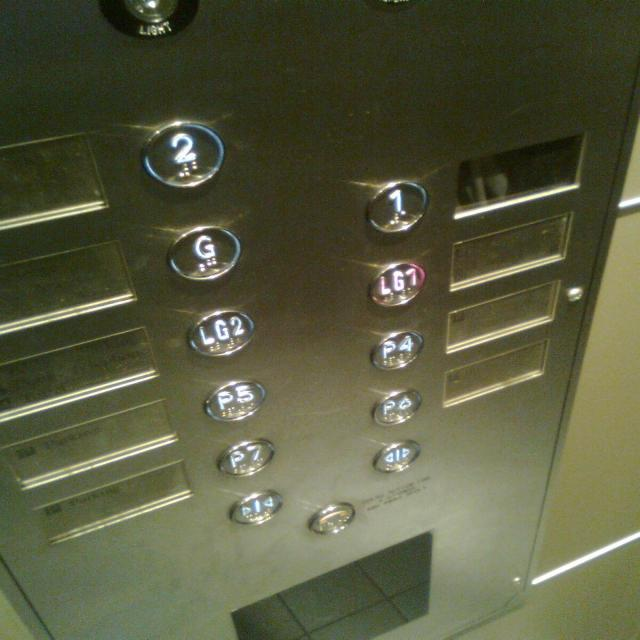1: (366, 180, 430, 235)
2: (138, 120, 227, 192)
G: (163, 223, 243, 284)
LG1: (368, 259, 425, 309)
LG2: (181, 306, 256, 358)
P4: (367, 328, 428, 373)
P5: (202, 378, 267, 426)
P6: (370, 386, 424, 428)
P7: (213, 438, 276, 479)
call: (303, 499, 357, 539)
close: (230, 488, 284, 528)
open: (370, 437, 423, 479)
